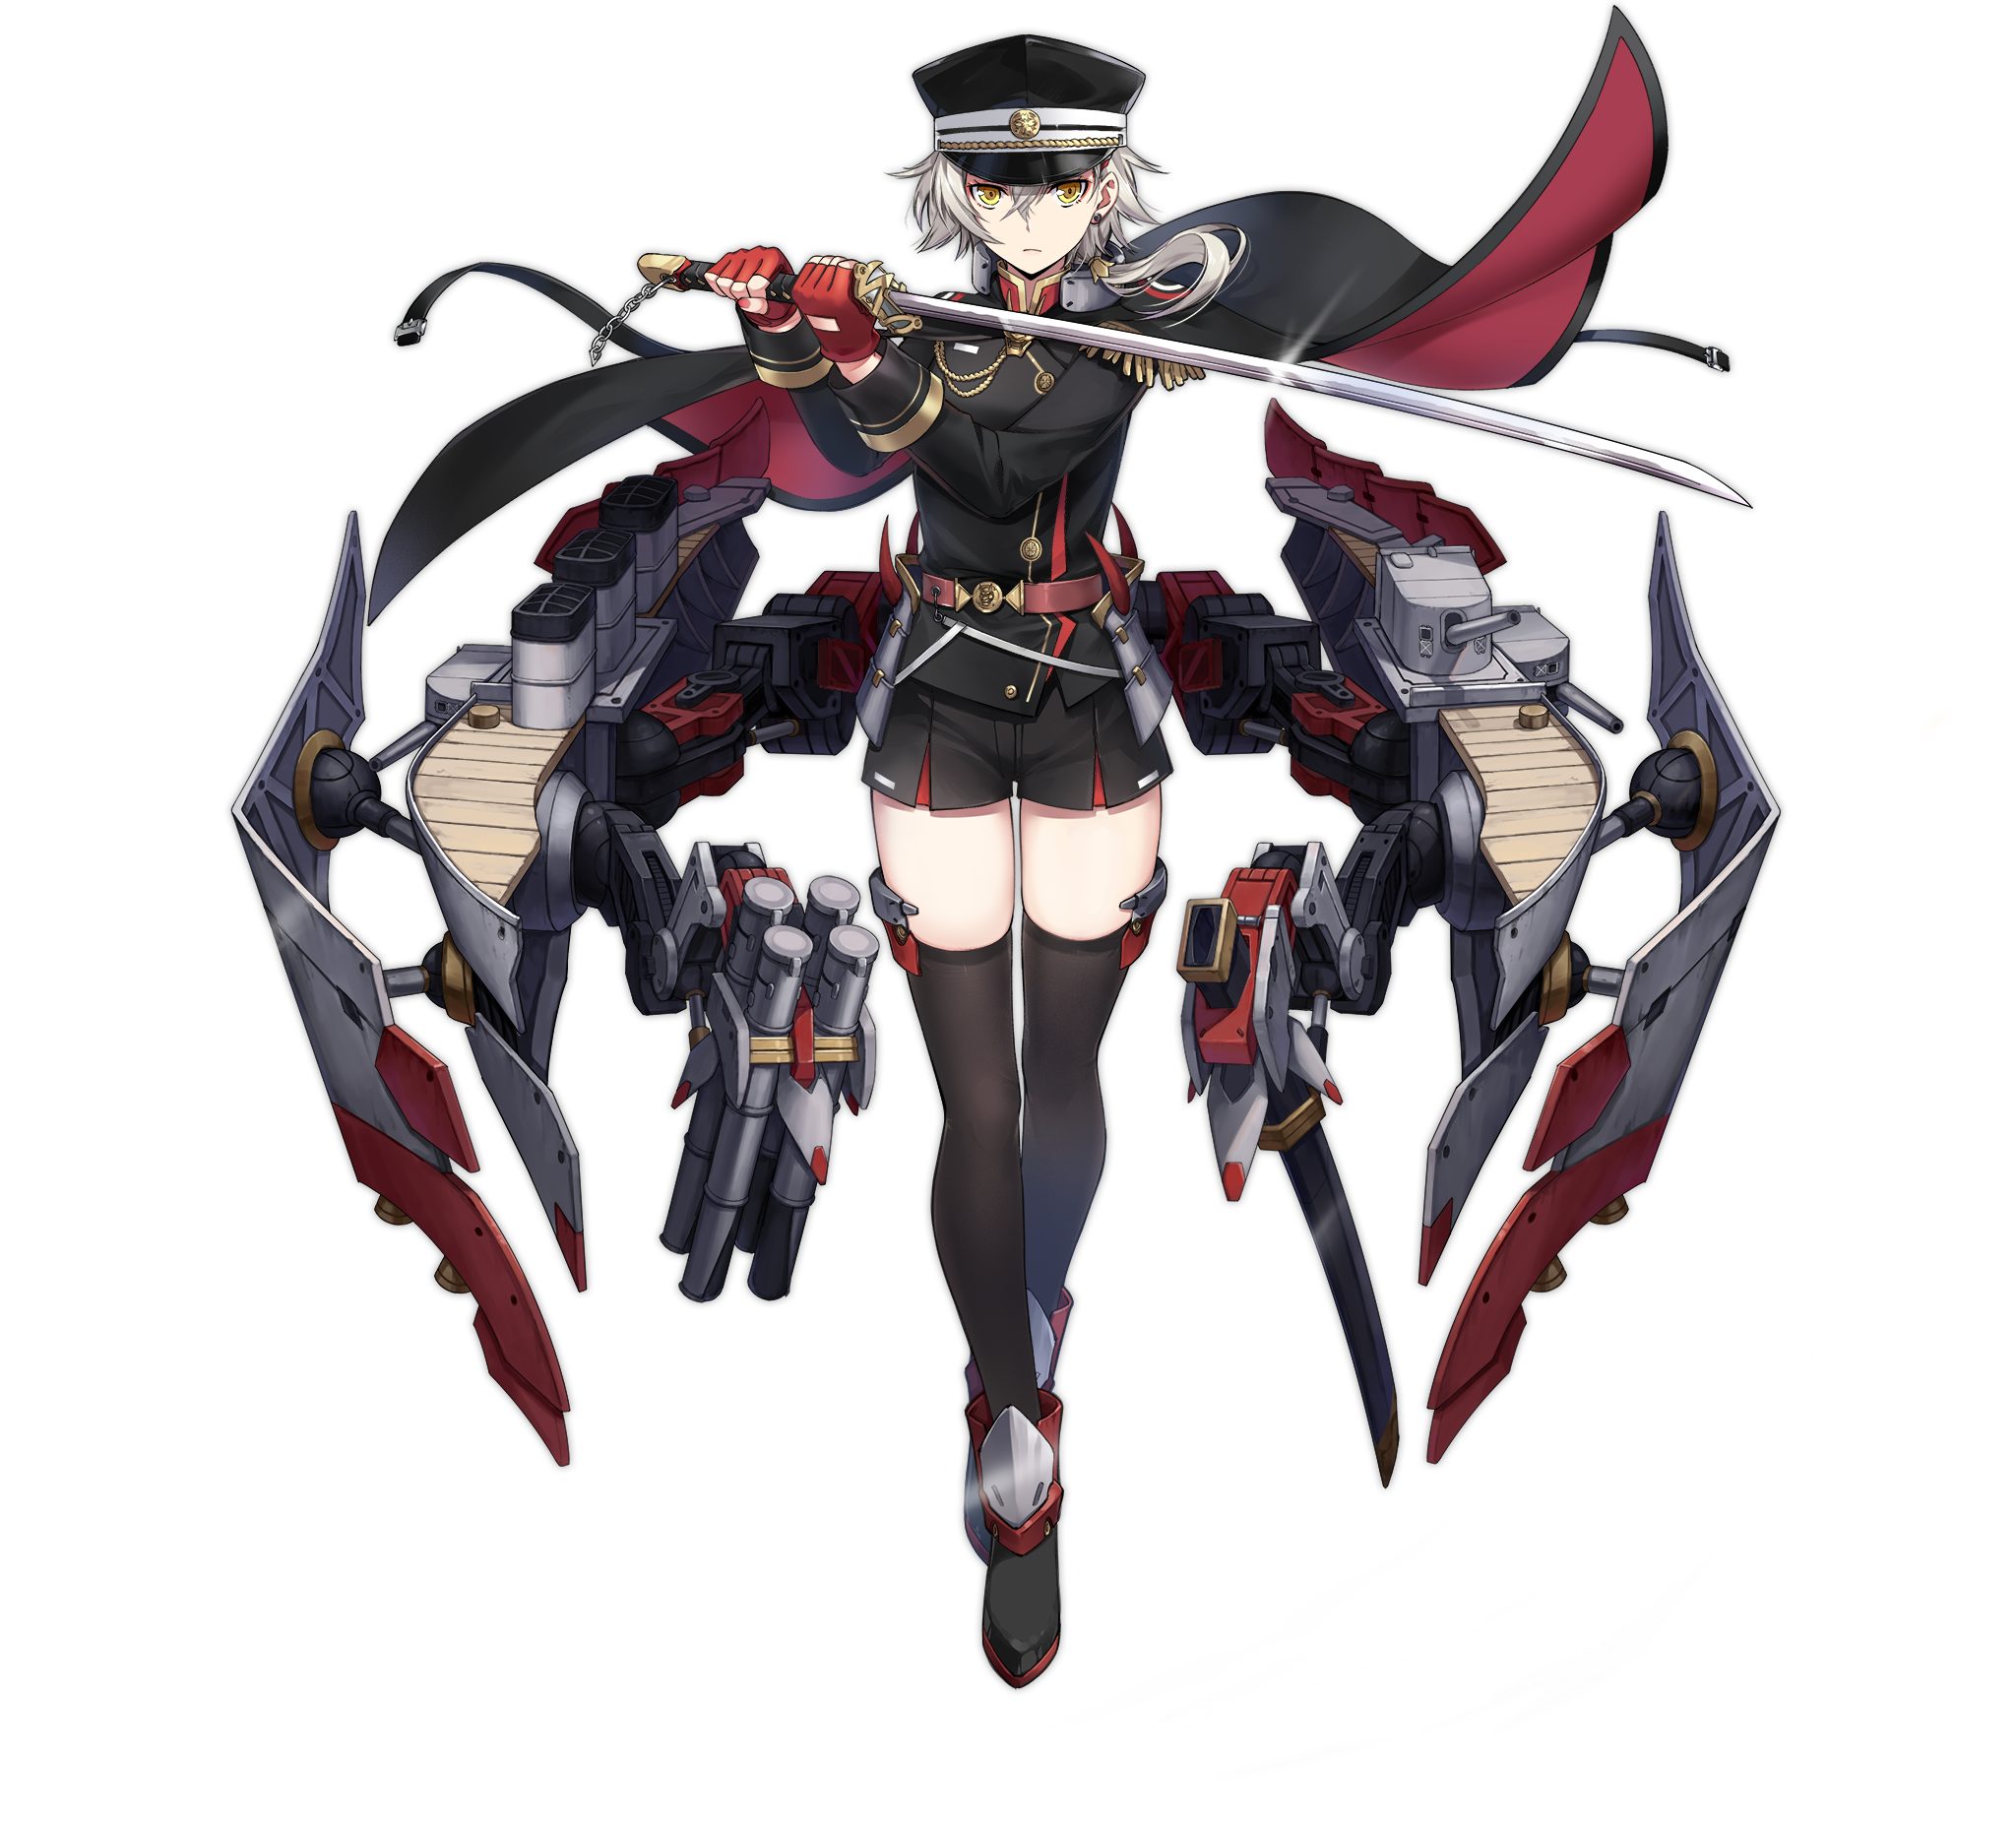person: (782, 30, 1238, 1093)
